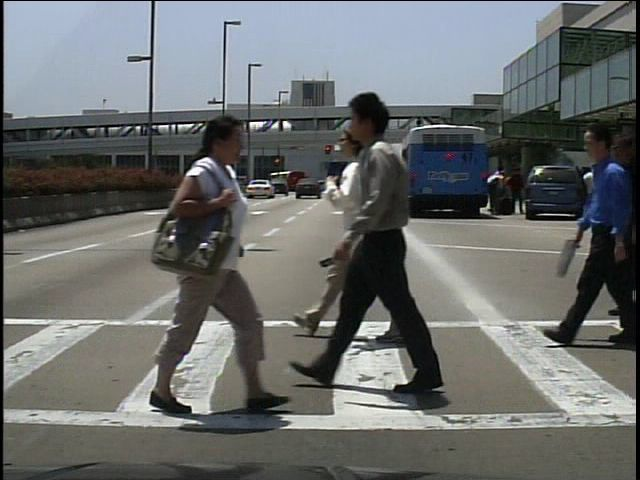person: (310, 86, 451, 399), (139, 115, 268, 417), (307, 118, 429, 358), (552, 114, 629, 348), (508, 166, 526, 216), (486, 162, 503, 214), (585, 168, 602, 218)
